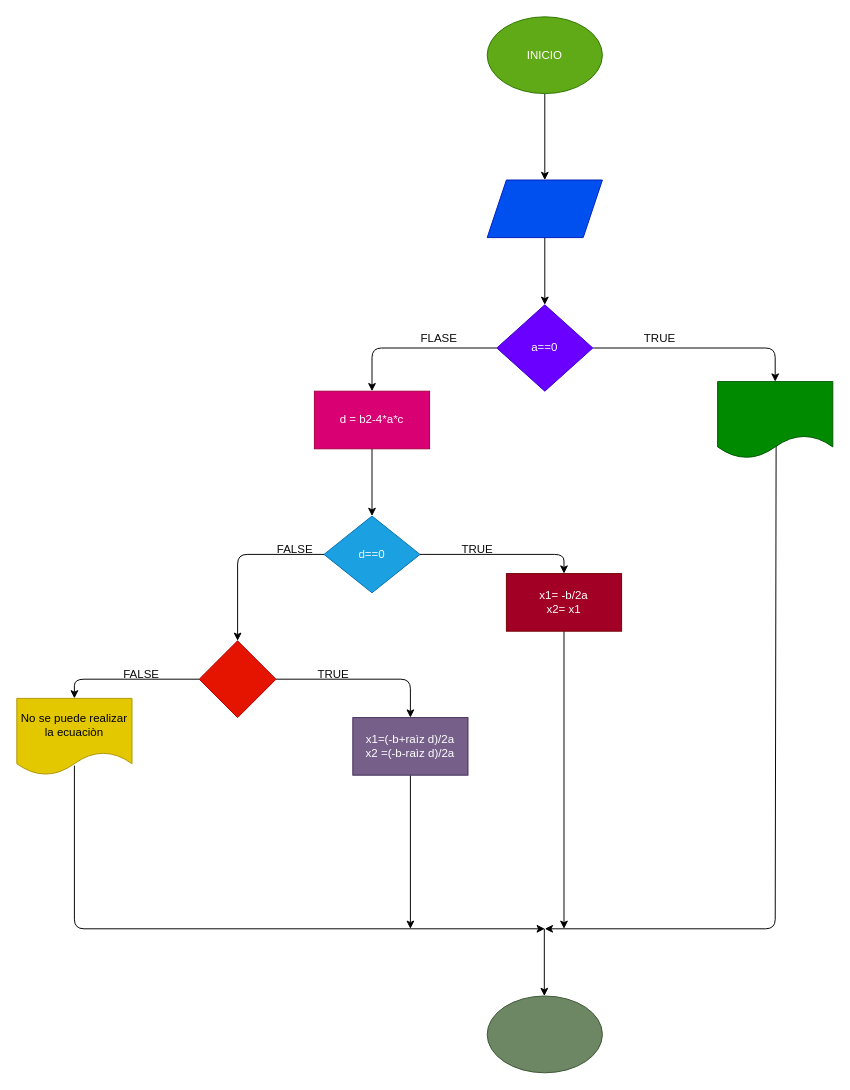
The diagram is 850 pixels wide and 1090 high, and some of its shapes have lost their labels. The centre of each missing label's shape, as x and y in pixels:
"a, b, c" belongs at (x=544, y=208).
"d>0" belongs at (x=237, y=679).
"FIN" belongs at (x=544, y=1034).
"No se puede realizar una ecuaciòn cuadratica" belongs at (x=775, y=419).
